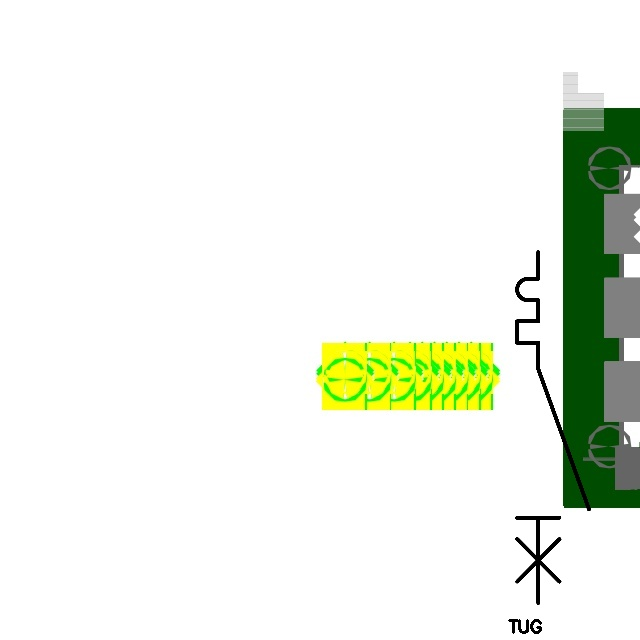interruptor_termomagnetico: (508, 243, 598, 612)
